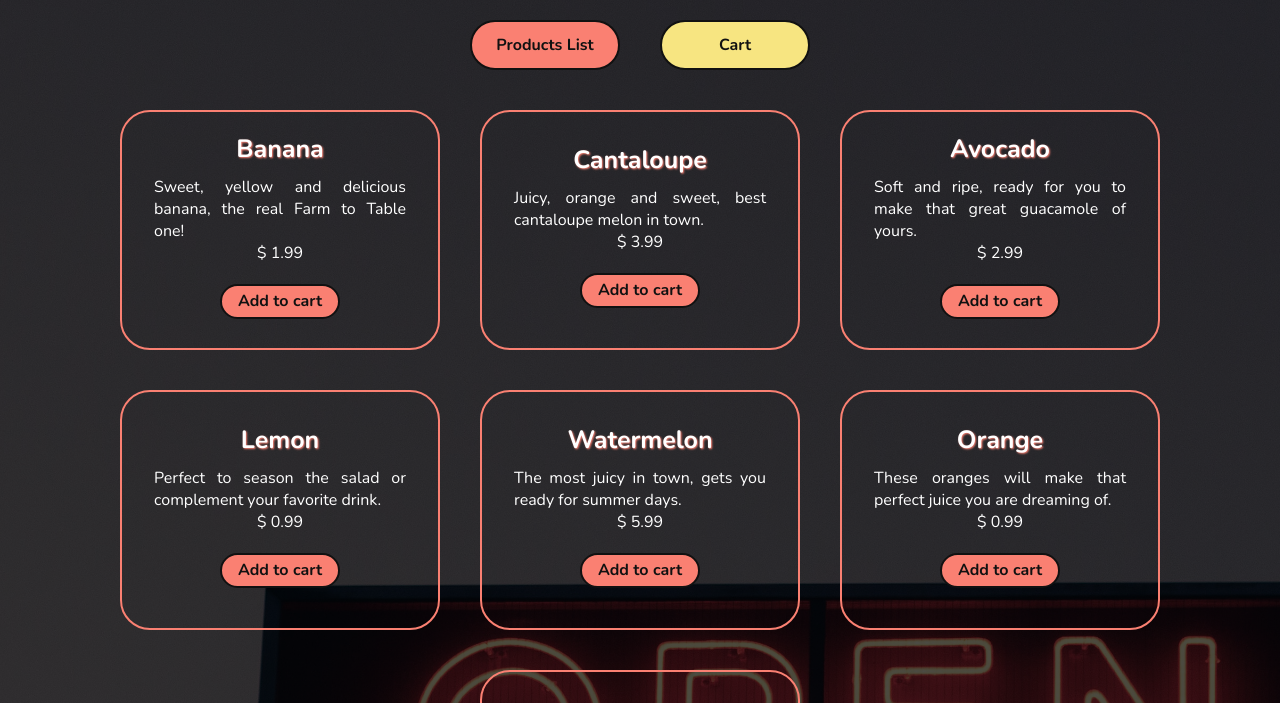
Scenario: <Store /> › when the user adds a product to the cart › renders the product in the Cart page
The width and height of the screenshot is (1280, 703).
Click the button "Add to cart" below "1.99": coordinates (280, 301) [220,284,340,318]
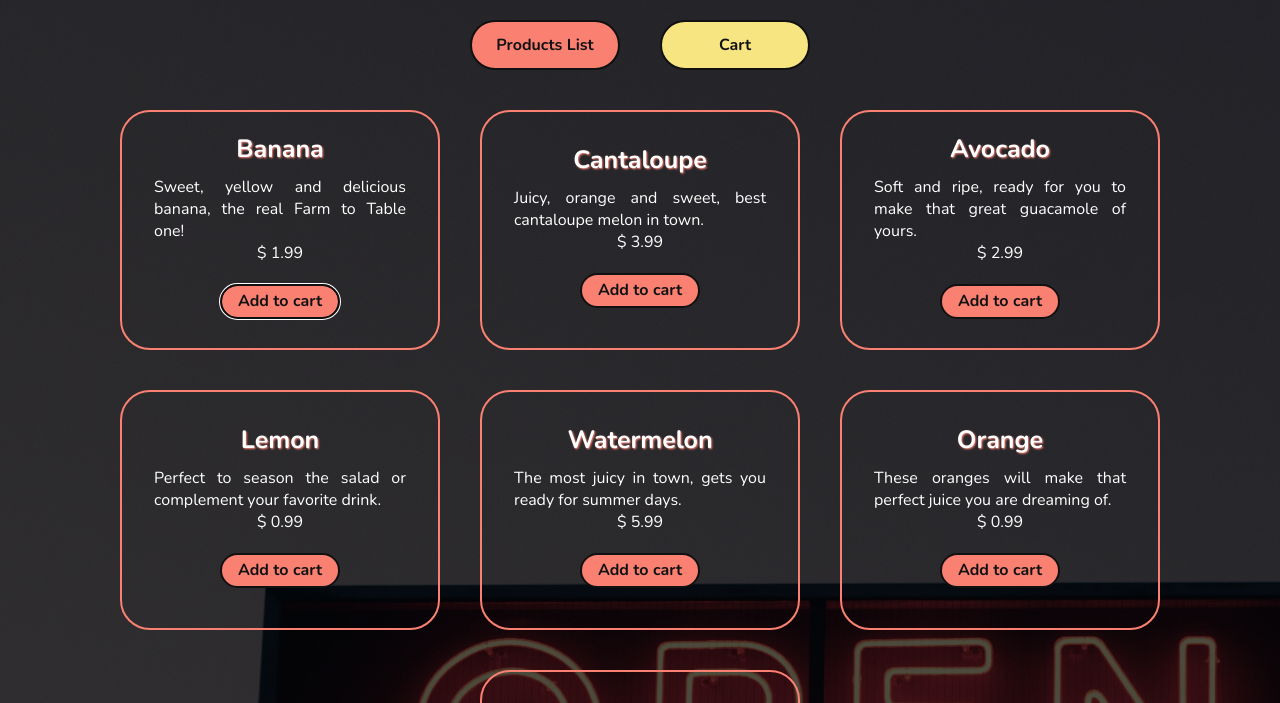
Click the button "Cart": coordinates (735, 45) [660,20,810,70]
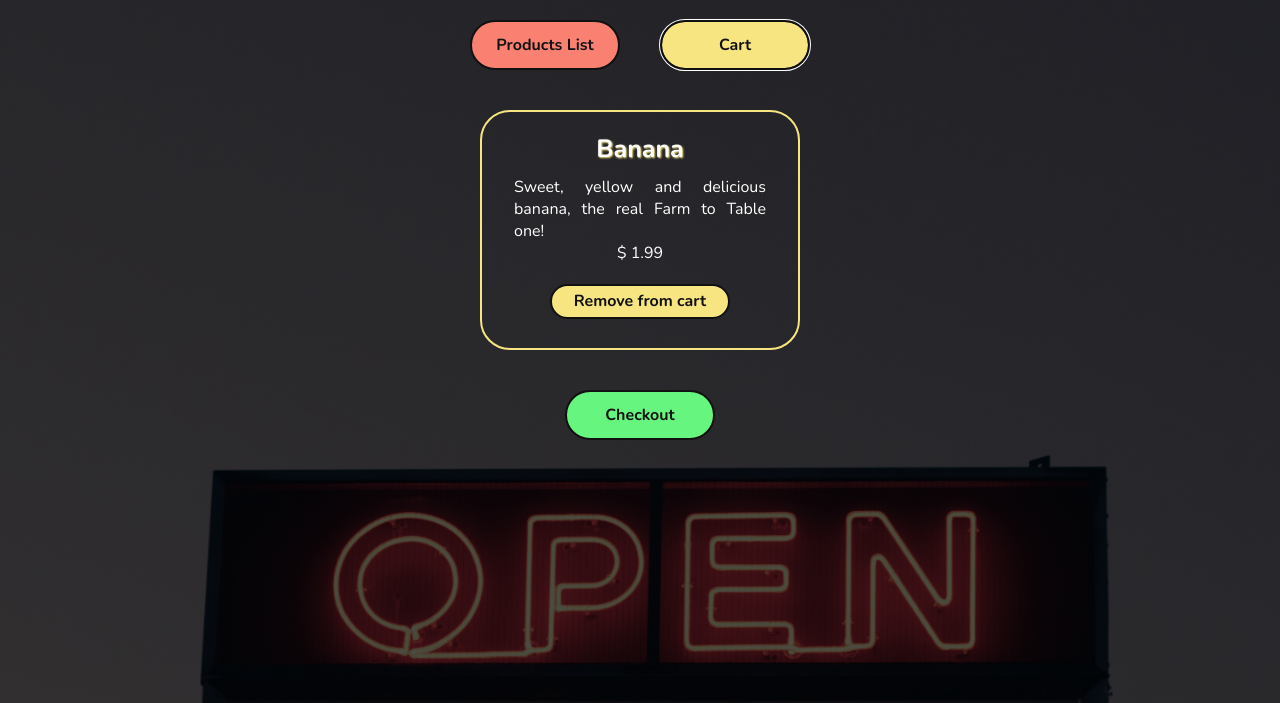
Expected: the heading "Banana" is shown, [596,132,684,166]
Now the button "Remove from cart" is shown, box [550,284,730,318]
